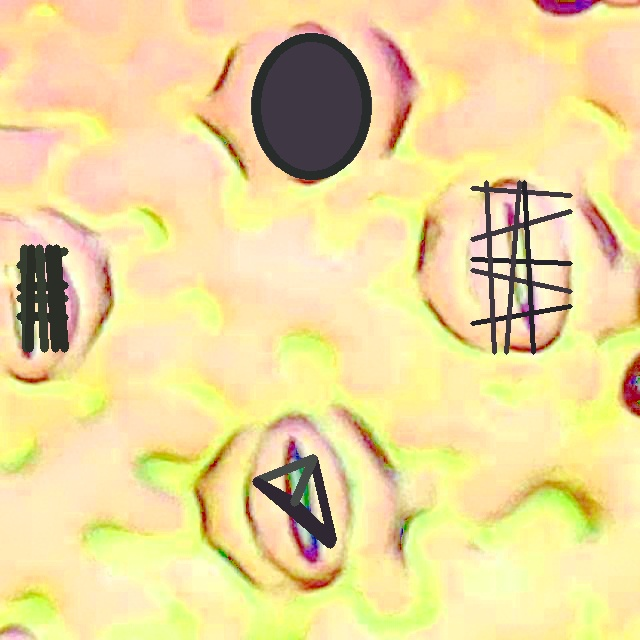open: (252, 33, 371, 179), (471, 181, 571, 354), (252, 455, 335, 548), (16, 244, 67, 351)
